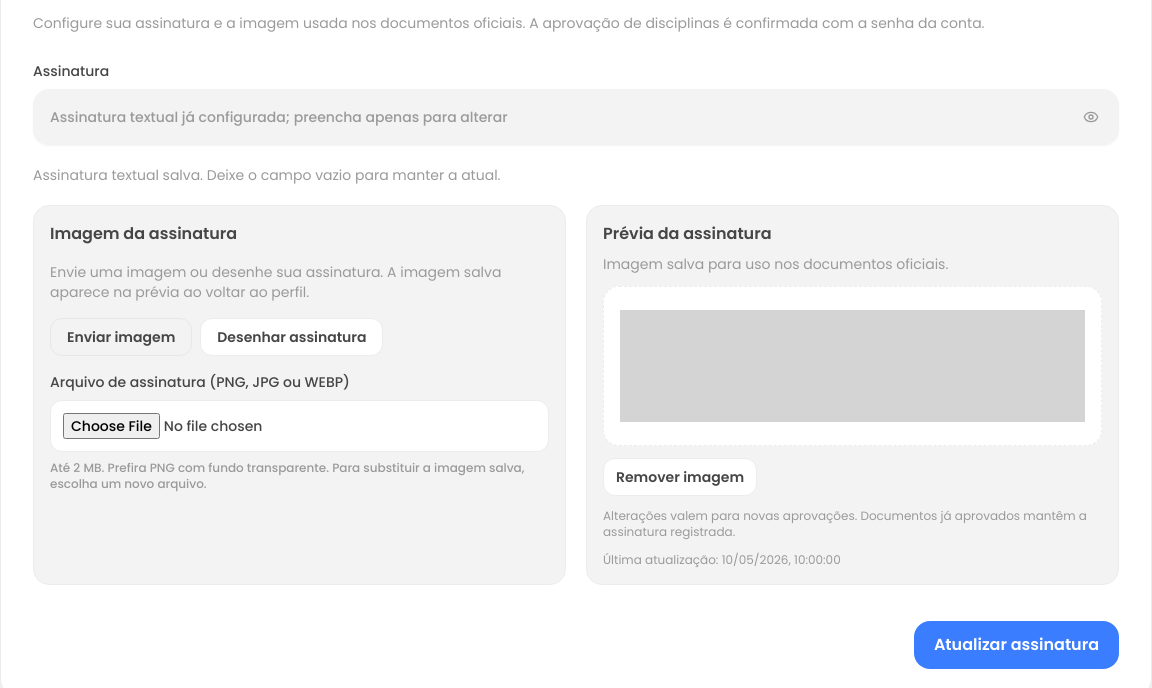
it: ProfilePage signature integration › deve recusar envio vazio sem mudar a assinatura salva
(page scrolled)
Click the button "Atualizar assinatura" at (1016,645), box top-left (914, 621), bottom-right (1119, 669)
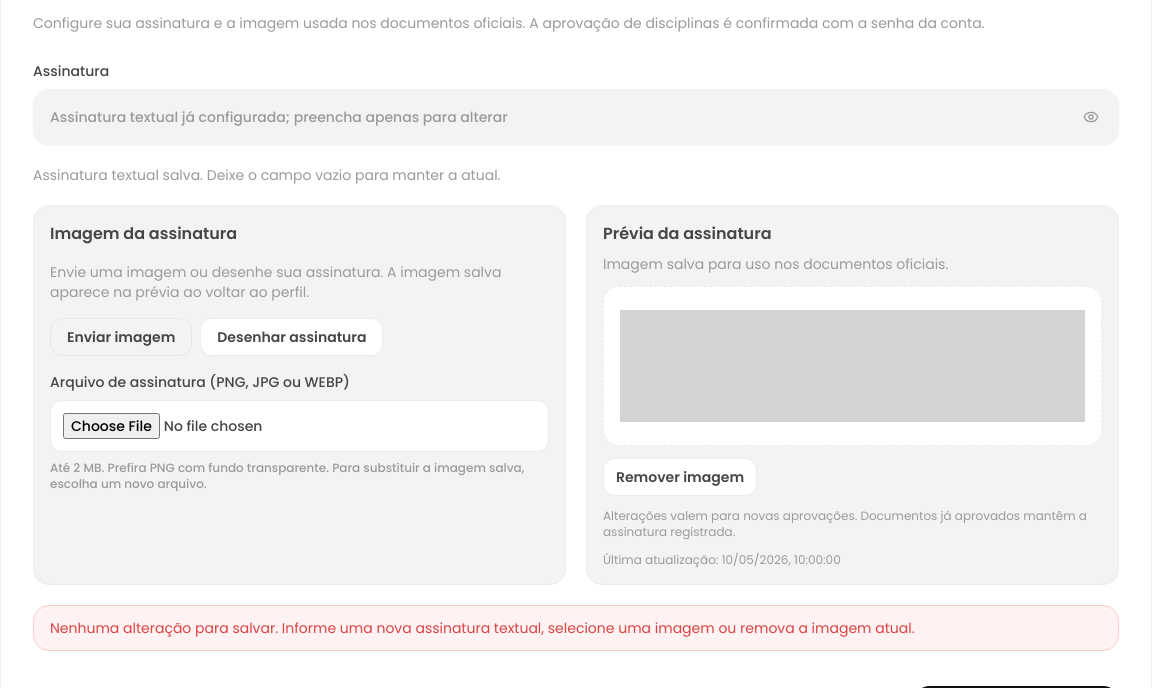
Expected: the text "Nenhuma alteração para salvar" is shown, top-left (50, 618), bottom-right (915, 638)
